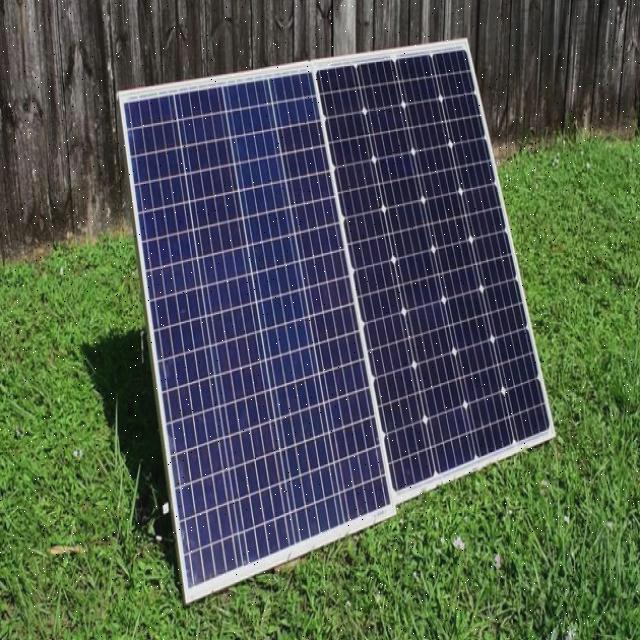Normal Solar Panel: (119, 41, 556, 604)
